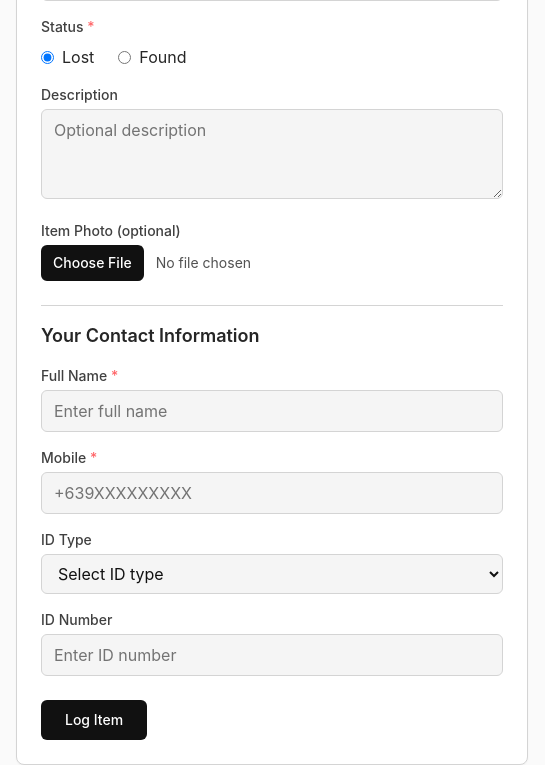
LogItemForm › shows validation errors on empty submit
The image size is (545, 765).
(page scrolled)
Click the button "Log Item" at coordinates (94, 720), box 41,700 -> 147,740
(page scrolled)
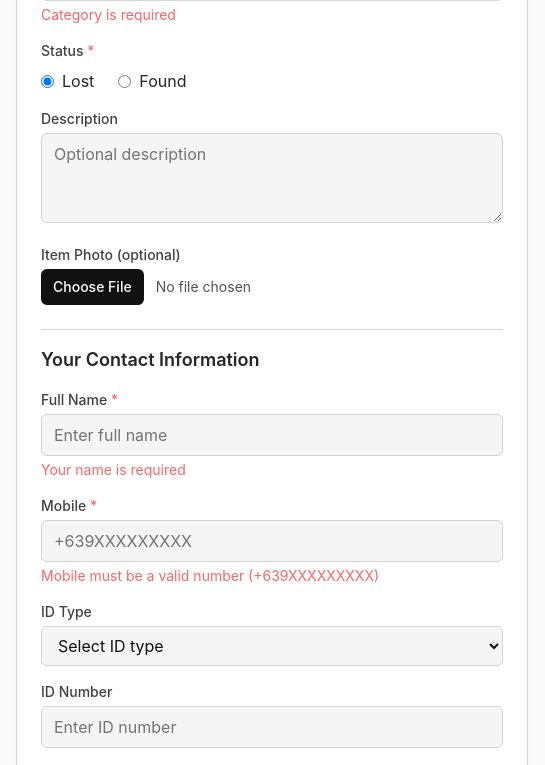
Result: the text "Category is required" is shown at 41,6 -> 176,23
